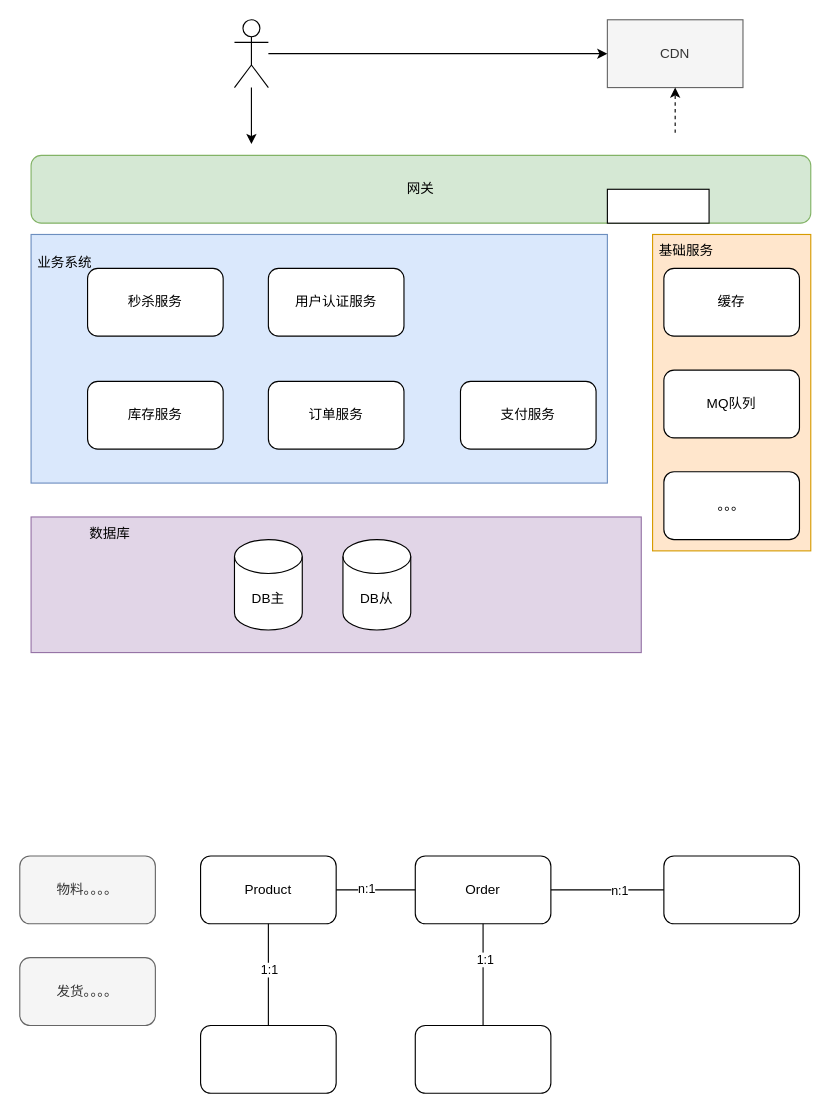
This 831x1113 diagram has some shape labels left out. Each missing label, with the centre of its shape:
Actor: (250,53)
Pay: (482,1058)
Stock: (267,1058)
User: (731,889)
限流: (657,205)
